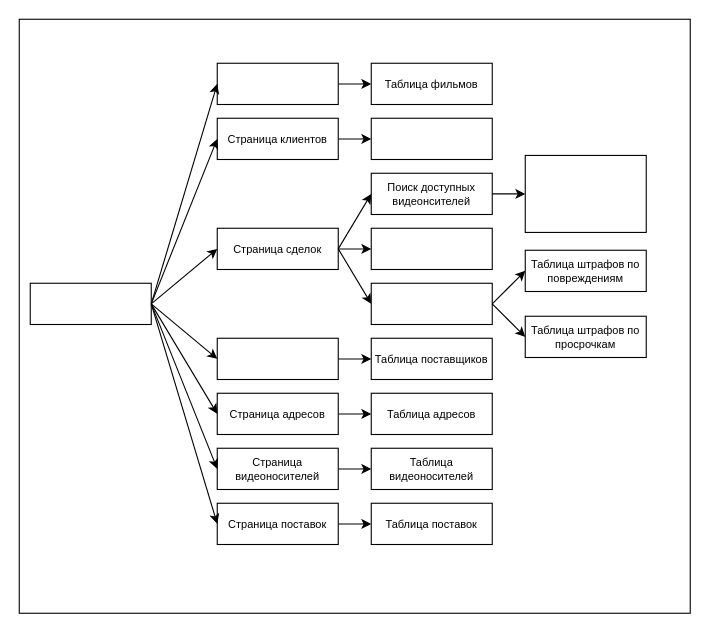
This 710x633 diagram has some shape labels left out. The shapes that lost their labels are listed below. From the top down, each one's centre as x and y in pixels, then its label:
the point at 277,83: Страница фильмов
the point at 431,138: Таблица клиентов
the point at 585,193: Таблица видеоносителей с опцией поиска и сортировки по доступности
the point at 431,248: Таблица сделок
the point at 90,303: Авторизация
the point at 431,303: Страница штрафов
the point at 277,358: Страница поставщиков
